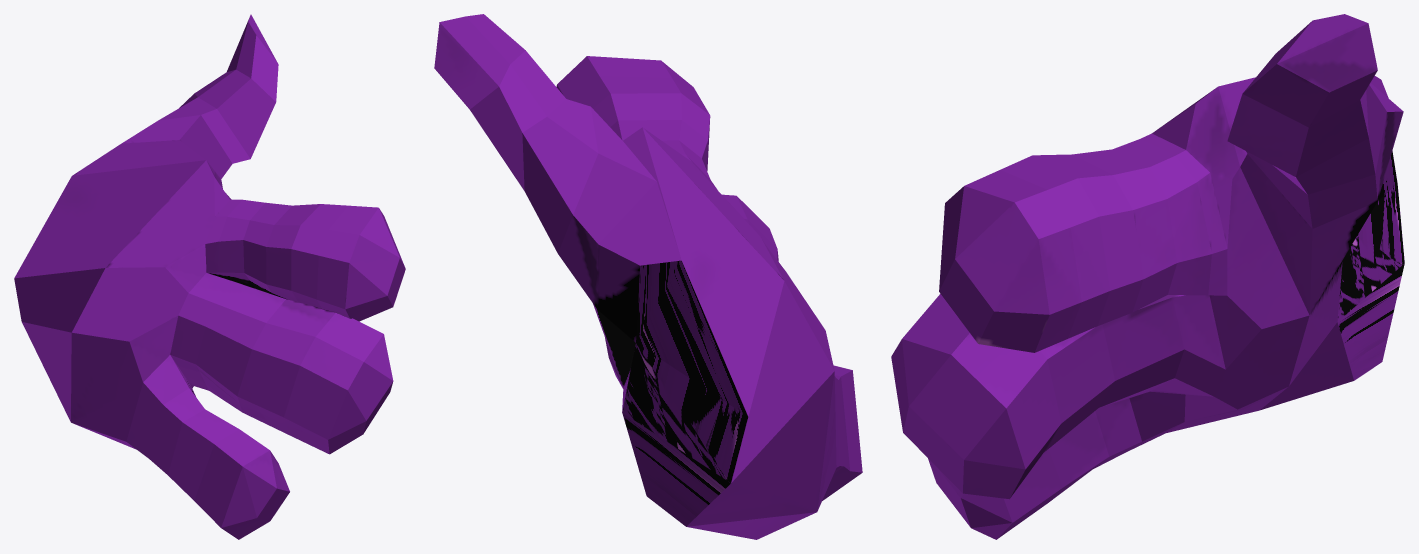
Rendered from Hatter_Hand.obj.
3 renders of one model, left to right at view 1: azimuth 30°, elevation 25°; view 2: azimuth 150°, elevation 25°; view 3: azimuth 270°, elevation 25°, orthographic. The views are drawn at different scales.
Parts seen in each view (by area): view 1: hatter_Cube.002; view 2: hatter_Cube.002; view 3: hatter_Cube.002.
Part boxes in pixels (bbox=[...]): hatter_Cube.002: bbox=[14, 14, 405, 539]; hatter_Cube.002: bbox=[434, 14, 862, 539]; hatter_Cube.002: bbox=[891, 14, 1404, 539].
Size of the model in its own units: 0.8534 by 1.26 by 0.9522.
Materials: 1 (1 with a texture image).
